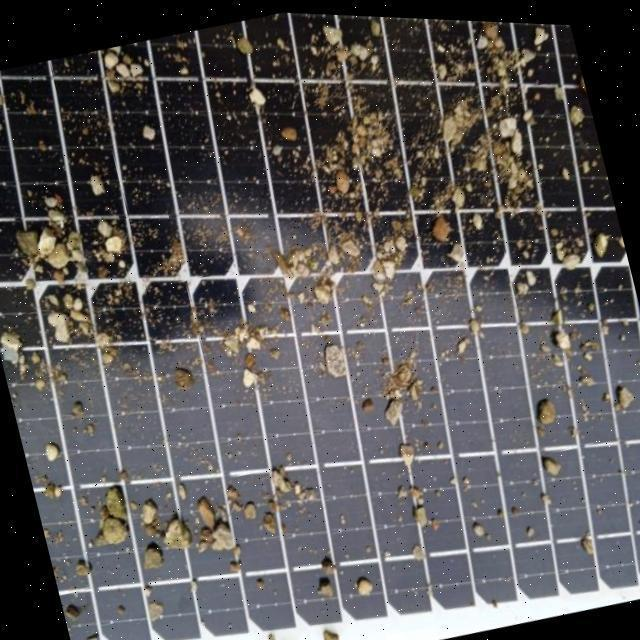Surface Contaminant: (0, 10, 640, 640)
